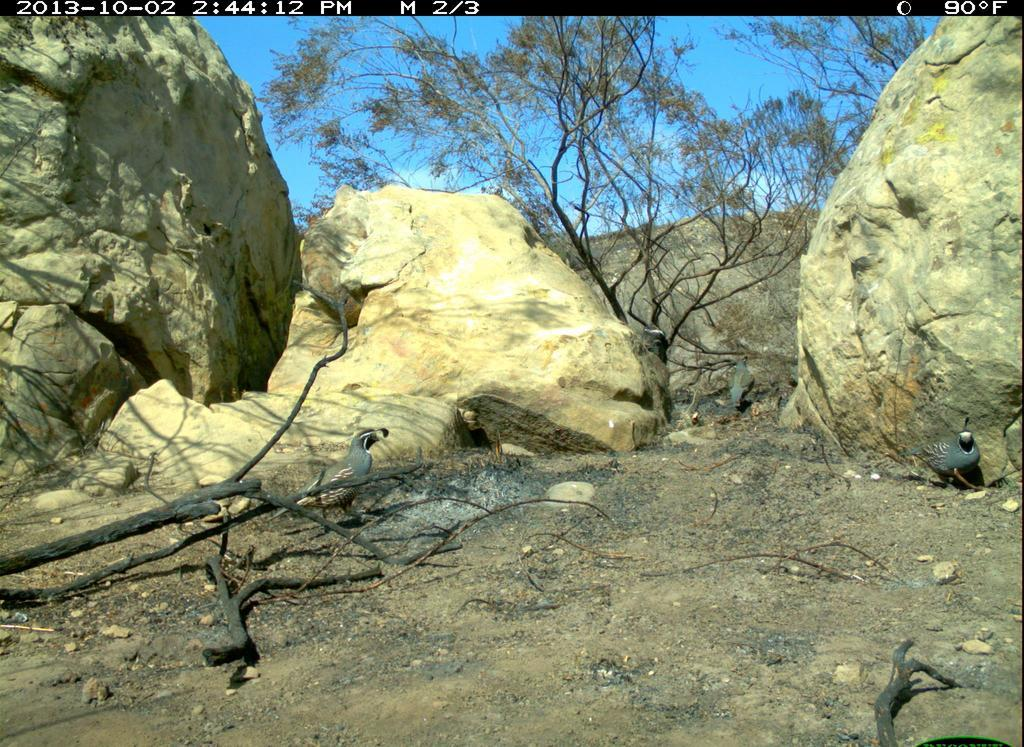bird: (273, 433, 385, 520)
